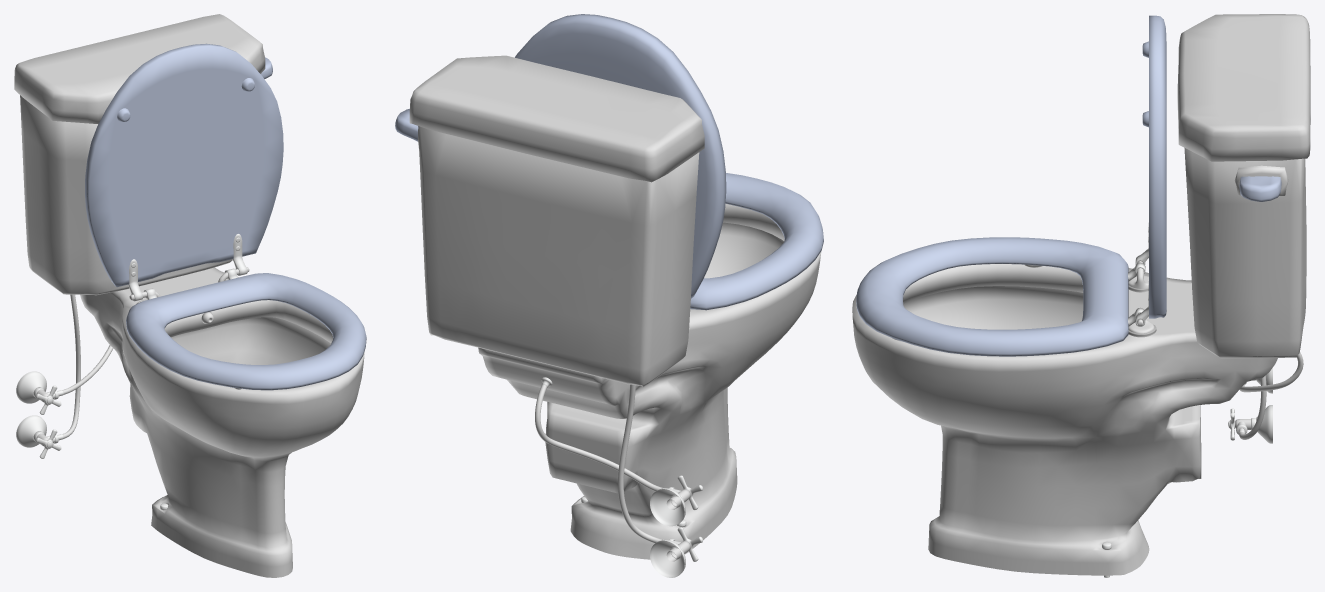
The model's file is Toilet.fbx.
The picture shows the model from 3 angles, left to right: view 1: azimuth 30°, elevation 25°; view 2: azimuth 150°, elevation 25°; view 3: azimuth 270°, elevation 25°; orthographic projection. The views are drawn at different scales.
Visible parts, largest first — view 1: D_Low, B_Low, A_Low, C_Low; view 2: D_Low, A_Low, B_Low, C_Low; view 3: D_Low, B_Low, A_Low, C_Low.
Boxes of the visible parts, x1,y1,x2,y2 form: D_Low: [14, 14, 364, 577]; B_Low: [33, 43, 366, 442]; A_Low: [20, 95, 247, 510]; C_Low: [33, 267, 310, 446]; D_Low: [395, 55, 821, 577]; A_Low: [418, 126, 699, 527]; B_Low: [515, 14, 823, 558]; C_Low: [418, 129, 690, 561]; D_Low: [852, 14, 1310, 575]; B_Low: [856, 15, 1255, 434]; A_Low: [1102, 148, 1306, 577]; C_Low: [892, 165, 1303, 439].
Bounding box in the file's own units: 48.59 × 85.87 × 67.85.
Materials: 1 (1 with a texture image).
